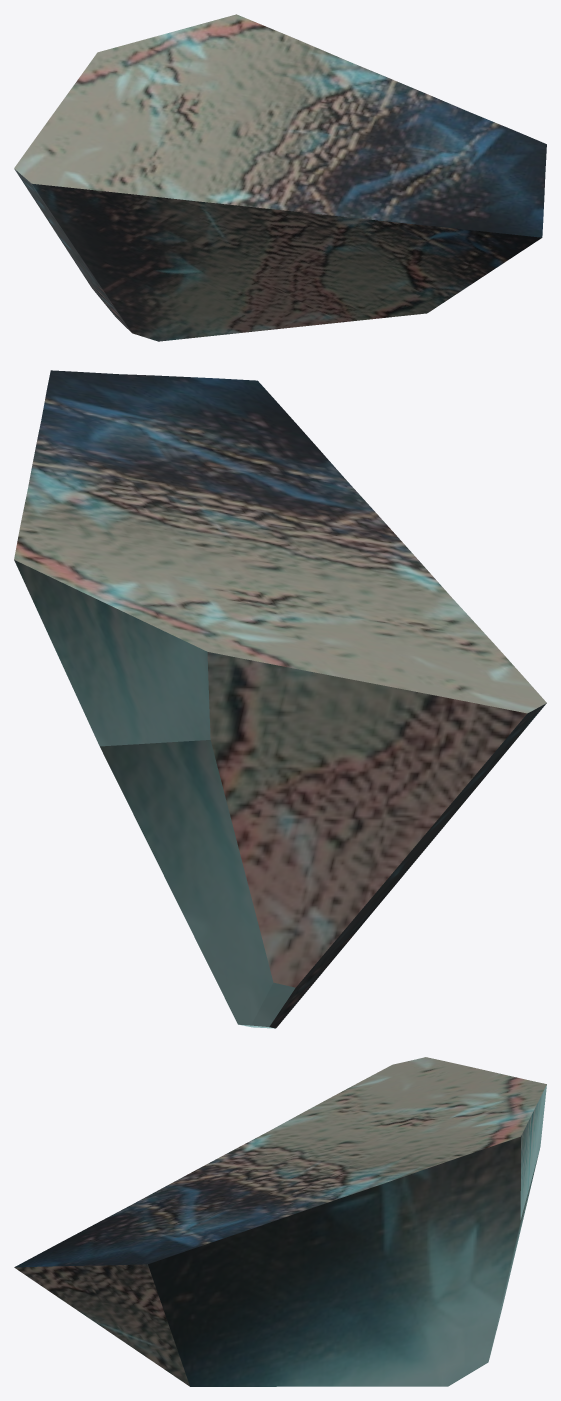
Rendered from trozoPiedra.glb.
3 renders of one model, top to bottom at view 1: azimuth 30°, elevation 25°; view 2: azimuth 150°, elevation 25°; view 3: azimuth 270°, elevation 25°, orthographic. The views are drawn at different scales.
Visible parts, largest first — view 1: polySurface950; view 2: polySurface950; view 3: polySurface950.
Part boxes in pixels (bbox=[...]): polySurface950: bbox=[14, 14, 546, 341]; polySurface950: bbox=[14, 370, 546, 1028]; polySurface950: bbox=[14, 1057, 546, 1386].
Size of the model in its own units: 0.2159 by 0.1395 by 0.217.
1 material, 1 textured.
